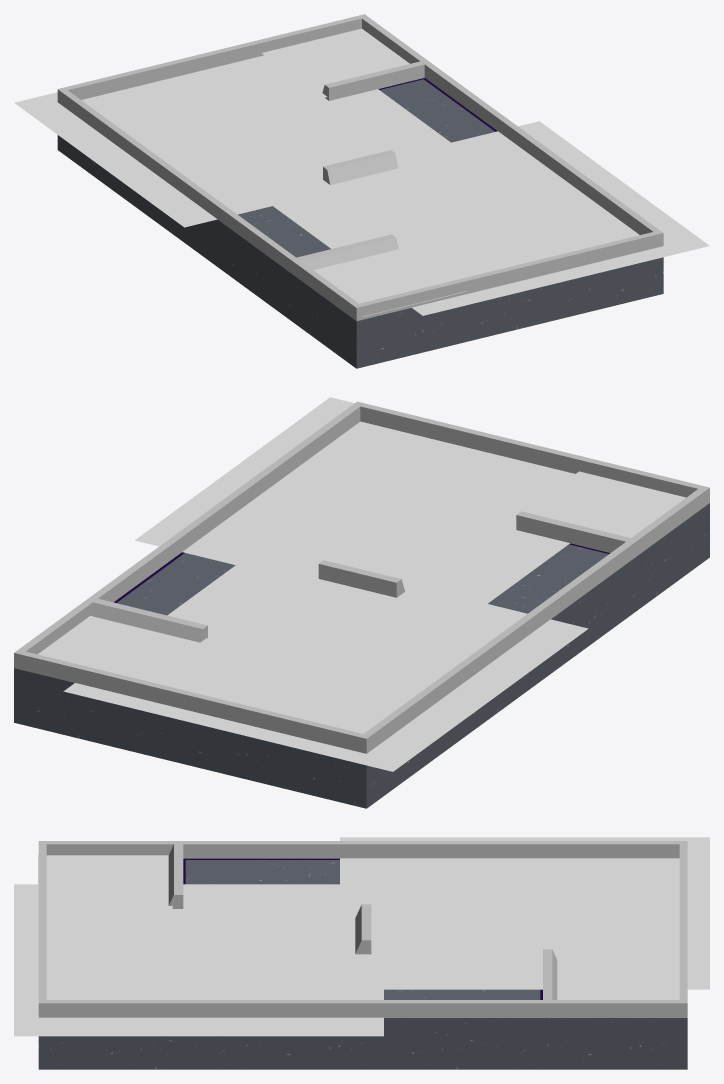
Rendered from Duel_Stage 18.fbx.
3 renders of one model, top to bottom at view 1: azimuth 30°, elevation 25°; view 2: azimuth 150°, elevation 25°; view 3: azimuth 270°, elevation 25°, orthographic. The views are drawn at different scales.
Parts seen in each view (by area): view 1: Plane.024, Plane.023, NY_Platform_Cube, NY_Platform_Cube.001, Plane.028, Plane.027, NY_Wall_Low_Tape, NY_Wall_Low_Tape.001, NY_Wall_Low; view 2: Plane.024, Plane.023, NY_Platform_Cube, NY_Platform_Cube.001, Plane.028, Plane.027, NY_Wall_Low_Tape, NY_Wall_Low_Tape.001, NY_Wall_Low; view 3: Plane.023, Plane.024, NY_Platform_Cube, NY_Platform_Cube.001, Plane.027, Plane.028, NY_Wall_Low_Tape.001, NY_Wall_Low, NY_Wall_Low_Tape.
Boxes of the visible parts, left/top/right/bottom form: Plane.024: left=14, top=55, right=471, bottom=227; Plane.023: left=255, top=121, right=709, bottom=315; NY_Platform_Cube: left=57, top=79, right=663, bottom=368; NY_Platform_Cube.001: left=57, top=14, right=663, bottom=321; Plane.028: left=262, top=28, right=409, bottom=97; Plane.027: left=313, top=246, right=466, bottom=316; NY_Wall_Low_Tape: left=322, top=61, right=424, bottom=100; NY_Wall_Low_Tape.001: left=297, top=234, right=398, bottom=269; NY_Wall_Low: left=323, top=150, right=398, bottom=184; Plane.024: left=63, top=548, right=588, bottom=771; Plane.023: left=135, top=397, right=574, bottom=603; NY_Platform_Cube: left=14, top=503, right=709, bottom=808; NY_Platform_Cube.001: left=14, top=401, right=709, bottom=753; Plane.028: left=38, top=616, right=211, bottom=682; Plane.027: left=513, top=471, right=685, bottom=537; NY_Wall_Low_Tape: left=90, top=598, right=207, bottom=642; NY_Wall_Low_Tape.001: left=516, top=511, right=630, bottom=552; NY_Wall_Low: left=318, top=560, right=404, bottom=597; Plane.023: left=14, top=884, right=383, bottom=1036; Plane.024: left=340, top=837, right=709, bottom=989; NY_Platform_Cube: left=38, top=860, right=687, bottom=1069; NY_Platform_Cube.001: left=38, top=841, right=687, bottom=1017; Plane.027: left=38, top=855, right=172, bottom=910; Plane.028: left=556, top=957, right=679, bottom=999; NY_Wall_Low_Tape.001: left=168, top=844, right=183, bottom=908; NY_Wall_Low: left=355, top=904, right=371, bottom=954; NY_Wall_Low_Tape: left=543, top=949, right=557, bottom=999.
Bounding box in the file's own units: 4131 × 640 × 6114.
